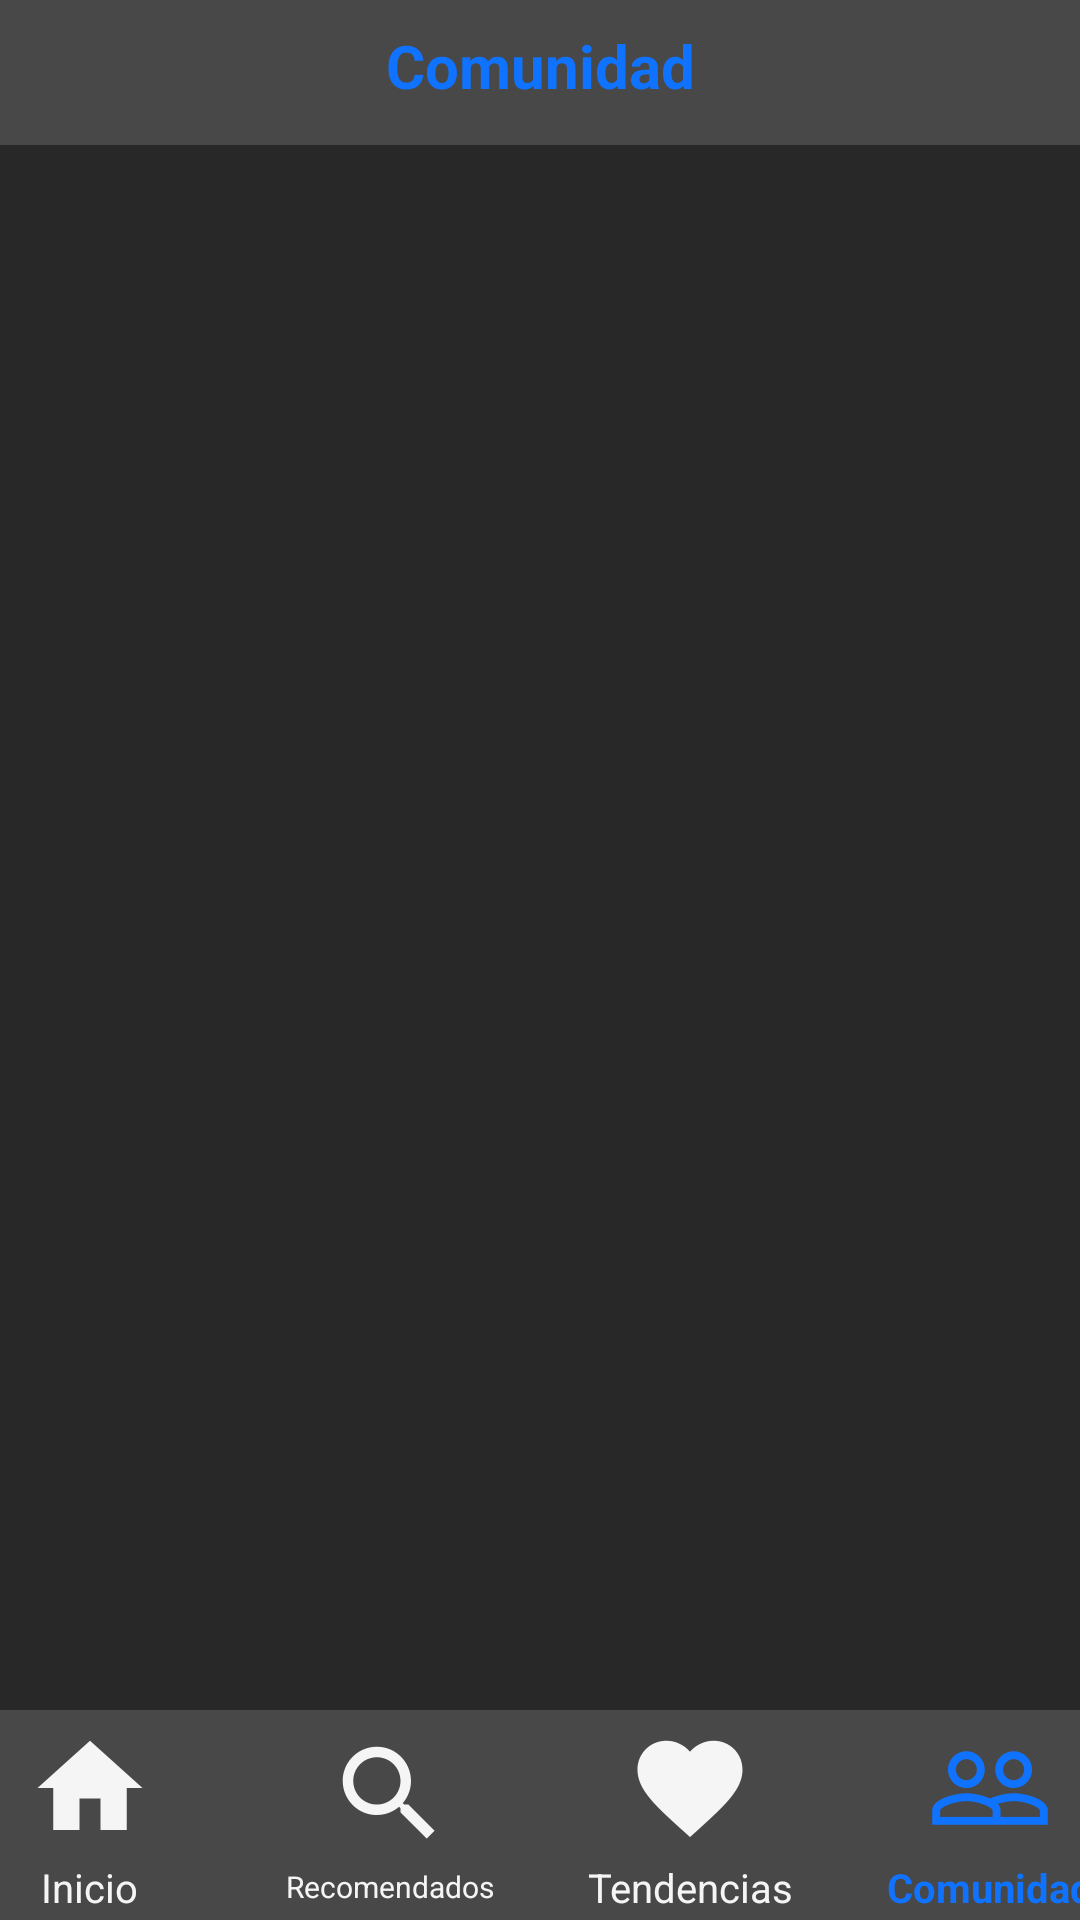

Icons on this 1080px×1920px Android screen, each with the point to tap as [x,y]:
search: [388,1792]
